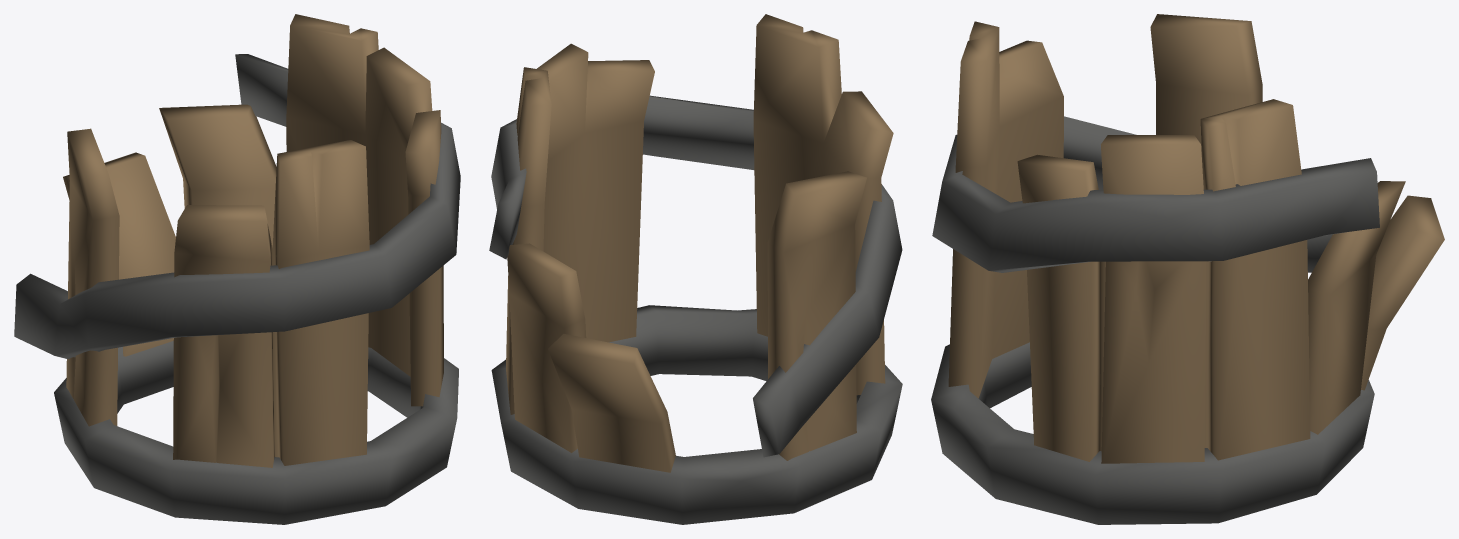
File: rpgpp_av_barrel_01c.gltf
The picture shows the model from 3 angles, left to right: view 1: azimuth 30°, elevation 25°; view 2: azimuth 150°, elevation 25°; view 3: azimuth 270°, elevation 25°; orthographic projection. The views are drawn at different scales.
Parts seen in each view (by area): view 1: rpgpp_av_barrel_01c; view 2: rpgpp_av_barrel_01c; view 3: rpgpp_av_barrel_01c.
Part boxes in pixels (bbox=[...]): rpgpp_av_barrel_01c: bbox=[14, 14, 460, 524]; rpgpp_av_barrel_01c: bbox=[489, 14, 902, 524]; rpgpp_av_barrel_01c: bbox=[931, 14, 1444, 524].
Size of the model in its own units: 0.0102 by 0.00985 by 0.0119.
1 material, 1 textured.
